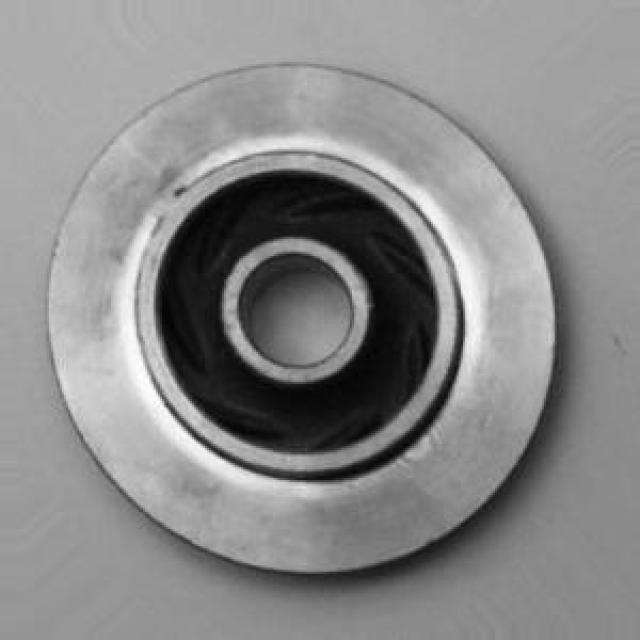Defect: (161, 176, 197, 207)
